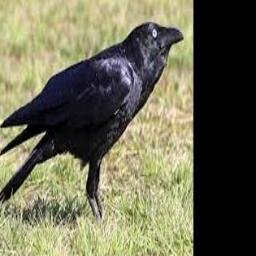Crow: (0, 21, 183, 223)
